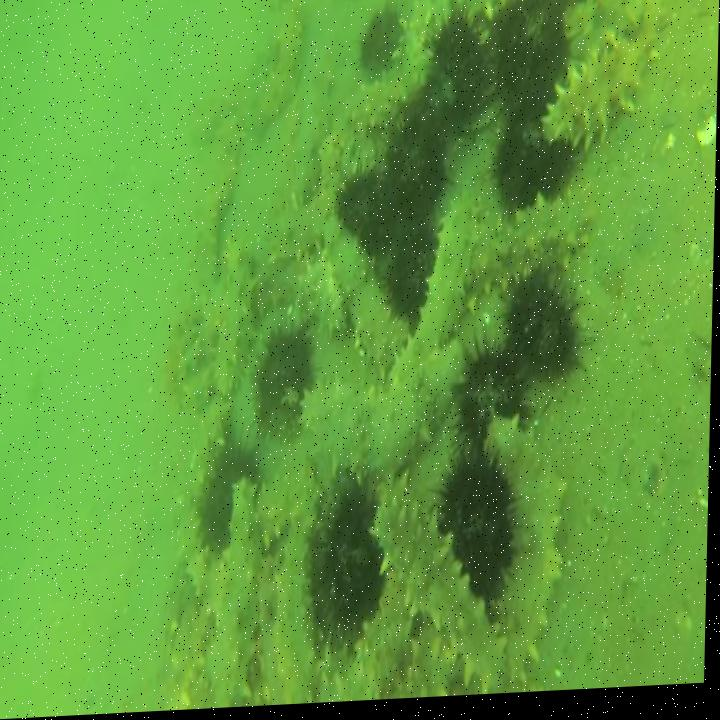echinus: (316, 480, 390, 641), (438, 455, 518, 598), (508, 273, 590, 395), (492, 104, 578, 220), (456, 343, 530, 468), (494, 0, 570, 119), (197, 442, 265, 562), (253, 328, 318, 448), (385, 120, 450, 228), (432, 11, 489, 132), (332, 167, 395, 271), (386, 225, 444, 327), (354, 5, 407, 81)
holothurian: (368, 468, 513, 704), (481, 414, 569, 689), (389, 191, 483, 393), (352, 343, 472, 487), (467, 185, 598, 313), (210, 476, 271, 711), (541, 39, 651, 166), (341, 0, 437, 141), (318, 216, 403, 374), (340, 572, 420, 706), (257, 141, 337, 272), (272, 514, 325, 708), (181, 415, 230, 605), (247, 12, 307, 136), (214, 238, 257, 400), (290, 66, 337, 210), (304, 377, 371, 473), (564, 0, 646, 71), (255, 470, 321, 555), (395, 628, 467, 703), (290, 258, 349, 344), (204, 159, 241, 295)
